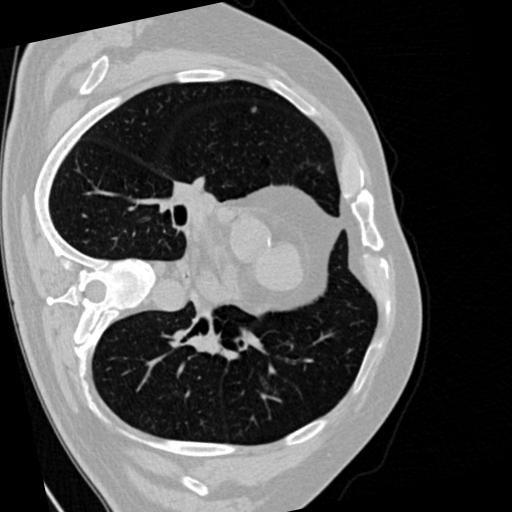nodule: (248, 103, 261, 116)
